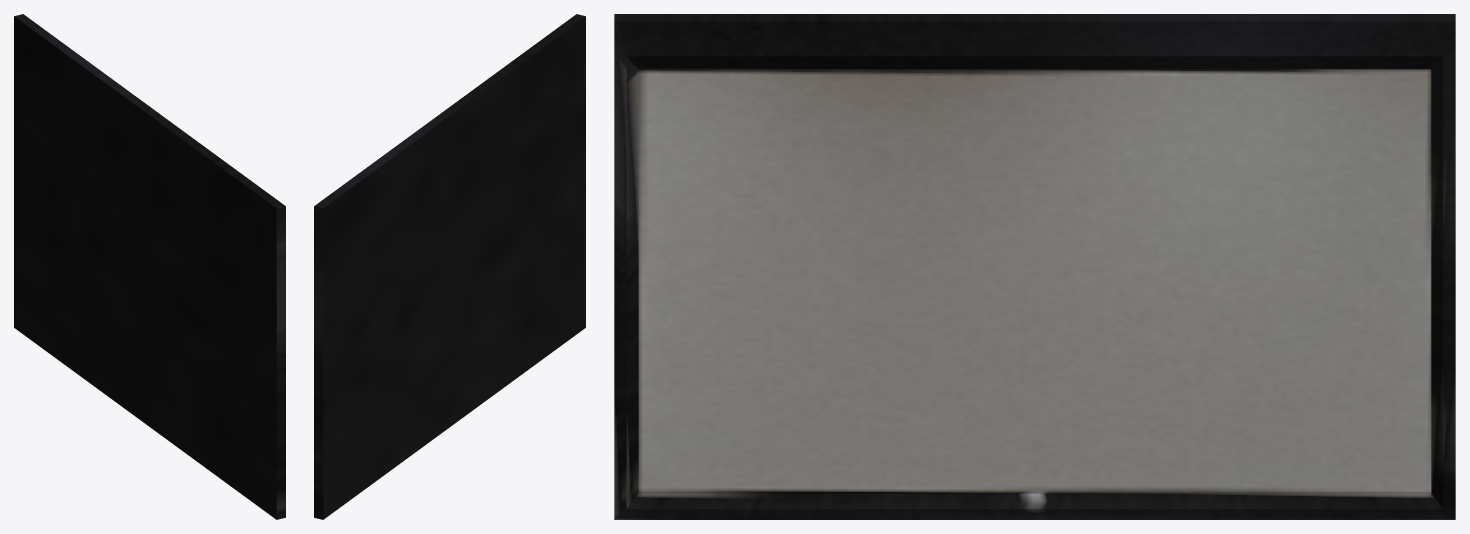
File: projectorscreen.fbx
The picture shows the model from 3 angles, left to right: view 1: azimuth 30°, elevation 25°; view 2: azimuth 150°, elevation 25°; view 3: azimuth 270°, elevation 25°; orthographic projection. The views are drawn at different scales.
Parts seen in each view (by area): view 1: Cube; view 2: Cube; view 3: Cube.
Part boxes in pixels (bbox=[...]): Cube: bbox=[14, 14, 285, 519]; Cube: bbox=[314, 14, 585, 519]; Cube: bbox=[614, 14, 1455, 519].
Size of the model in its own units: 28.36 by 918 by 1402.
